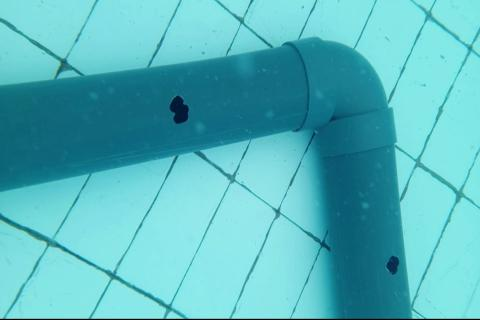kebocoran: (170, 93, 190, 125), (386, 254, 400, 275)
